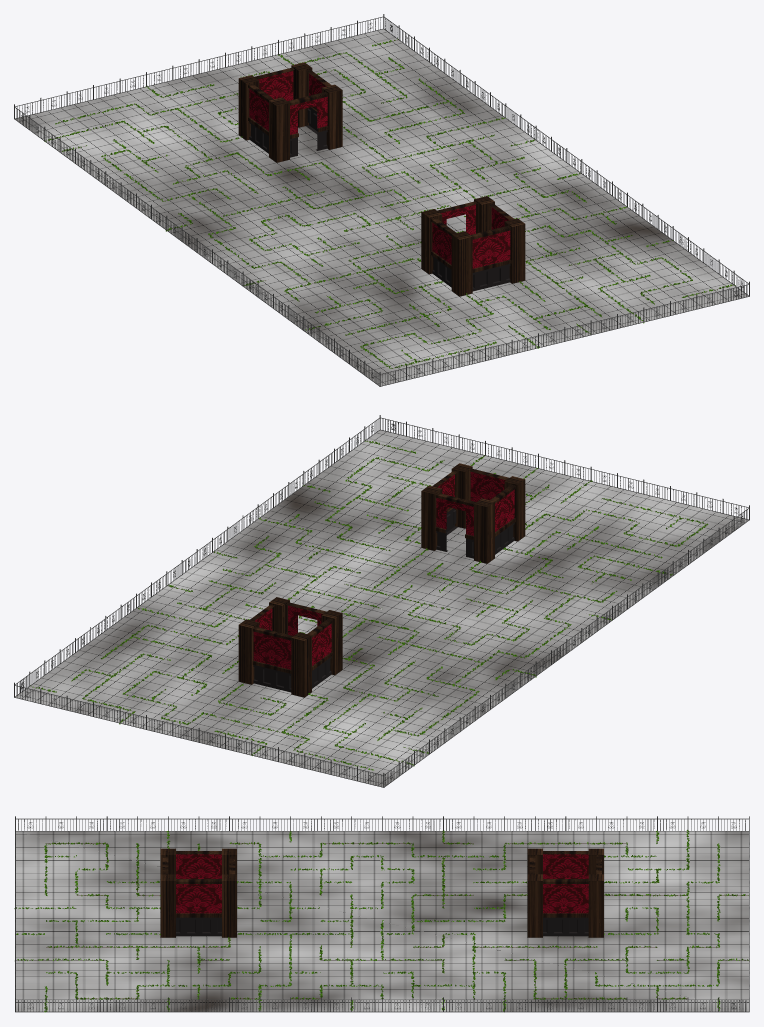
The model's file is Labirinto.glb.
The picture shows the model from 3 angles, top to bottom: view 1: azimuth 30°, elevation 25°; view 2: azimuth 150°, elevation 25°; view 3: azimuth 270°, elevation 25°; orthographic projection.
Parts seen in each view (by area): view 1: Plane.031, Maze_Wall_Paths, Metal Railing Post_MetalRailing_MTL_0.005, Metal Railing Post_MetalRailing_MTL_0.001, Metal Railing Post_MetalRailing_MTL_0.004, Metal Railing Post_MetalRailing_MTL_0.003, Wall.004, Wall.002, Wall.014, Wall.011, Wall.010, Wall.005 (+7 smaller); view 2: Plane.031, Maze_Wall_Paths, Metal Railing Post_MetalRailing_MTL_0.001, Metal Railing Post_MetalRailing_MTL_0.005, Metal Railing Post_MetalRailing_MTL_0.003, Metal Railing Post_MetalRailing_MTL_0.004, Wall.008, Wall.054, Wall.007, Wall.024, Wall.005, Wall.010 (+7 smaller); view 3: Plane.031, Maze_Wall_Paths, Metal Railing Post_MetalRailing_MTL_0.001, Metal Railing Post_MetalRailing_MTL_0.005, Wall.001, Wall.009, Wall.005, Wall.010, Wall.003, Wall.006, Wall.012, Wall.013.
Boxes of the visible parts, <box> form: Plane.031: <box>15,29,748,385</box>; Maze_Wall_Paths: <box>44,38,735,368</box>; Metal Railing Post_MetalRailing_MTL_0.005: <box>384,16,749,296</box>; Metal Railing Post_MetalRailing_MTL_0.001: <box>14,107,380,386</box>; Metal Railing Post_MetalRailing_MTL_0.004: <box>379,284,749,386</box>; Metal Railing Post_MetalRailing_MTL_0.003: <box>14,16,383,118</box>; Wall.004: <box>470,225,511,291</box>; Wall.002: <box>451,231,472,296</box>; Wall.014: <box>288,92,328,157</box>; Wall.011: <box>269,97,289,162</box>; Wall.010: <box>430,217,456,287</box>; Wall.005: <box>248,83,273,153</box>; Plane.031: <box>15,430,748,786</box>; Maze_Wall_Paths: <box>30,439,708,770</box>; Metal Railing Post_MetalRailing_MTL_0.001: <box>384,505,749,787</box>; Metal Railing Post_MetalRailing_MTL_0.005: <box>15,415,380,696</box>; Metal Railing Post_MetalRailing_MTL_0.003: <box>14,685,384,787</box>; Metal Railing Post_MetalRailing_MTL_0.004: <box>380,417,749,519</box>; Wall.008: <box>252,626,293,692</box>; Wall.054: <box>435,493,475,558</box>; Wall.007: <box>291,632,311,697</box>; Wall.024: <box>474,498,494,563</box>; Wall.005: <box>307,618,333,688</box>; Wall.010: <box>490,484,515,554</box>; Plane.031: <box>16,831,748,1011</box>; Maze_Wall_Paths: <box>14,830,748,1012</box>; Metal Railing Post_MetalRailing_MTL_0.001: <box>16,816,748,831</box>; Metal Railing Post_MetalRailing_MTL_0.005: <box>16,997,748,1012</box>; Wall.001: <box>176,879,221,936</box>; Wall.009: <box>543,879,588,936</box>; Wall.005: <box>543,851,588,878</box>; Wall.010: <box>176,851,221,878</box>; Wall.003: <box>160,874,175,937</box>; Wall.006: <box>588,874,603,937</box>; Wall.012: <box>527,874,542,937</box>; Wall.013: <box>222,874,236,937</box>.
Bounding box in the file's own units: 28.14 × 4.21 × 48.15.
7 materials, 4 textured.
